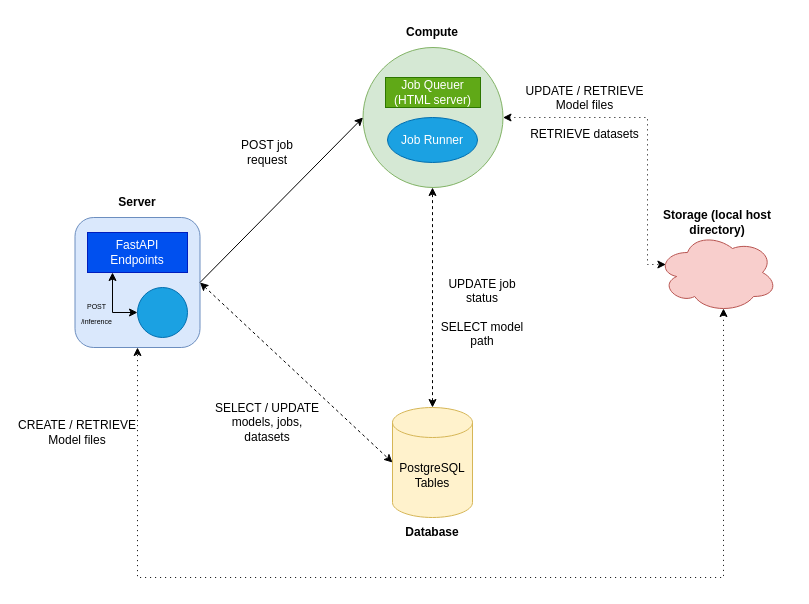
This 809x604 diagram has some shape labels left out. The shapes that lost their labels are listed below. From the top down, each one's centre as x and y in pixels, then its label:
(717,272): ./models/ ./datasets/
(162,312): Inference Runner
